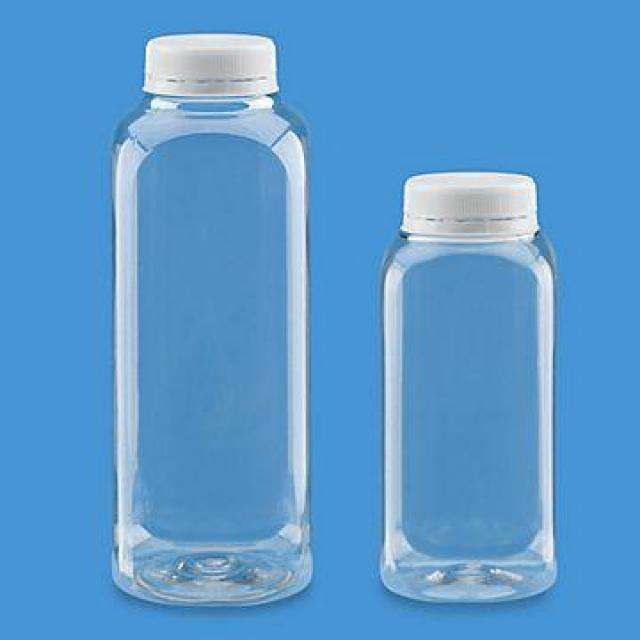plastic_bottle: (112, 34, 317, 606), (384, 177, 560, 605)
